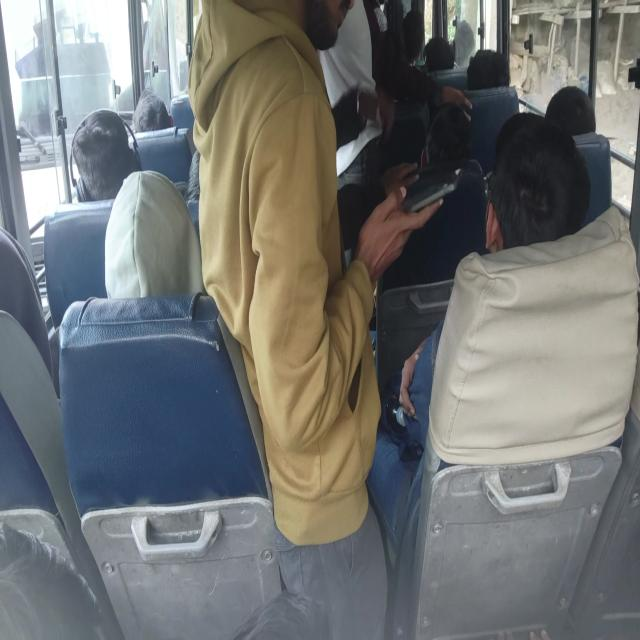person: (189, 0, 396, 471), (89, 163, 225, 302), (484, 135, 604, 285), (0, 224, 69, 334), (430, 117, 506, 201), (79, 99, 149, 190), (536, 78, 592, 152), (384, 0, 430, 69), (475, 52, 522, 113), (423, 19, 453, 76), (132, 91, 170, 133)
